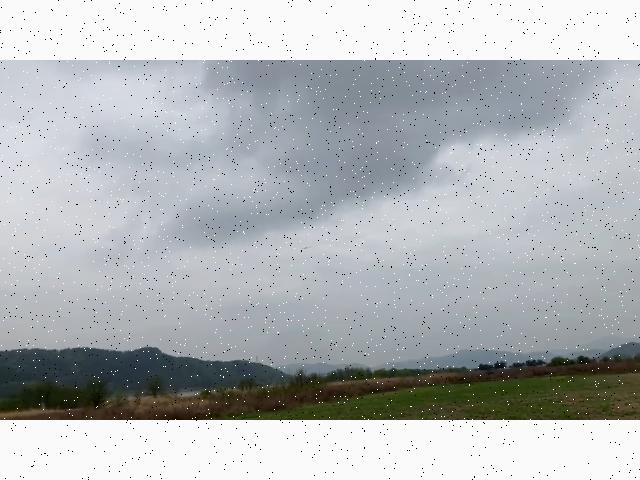Anti-Drone: (296, 238, 316, 254)
